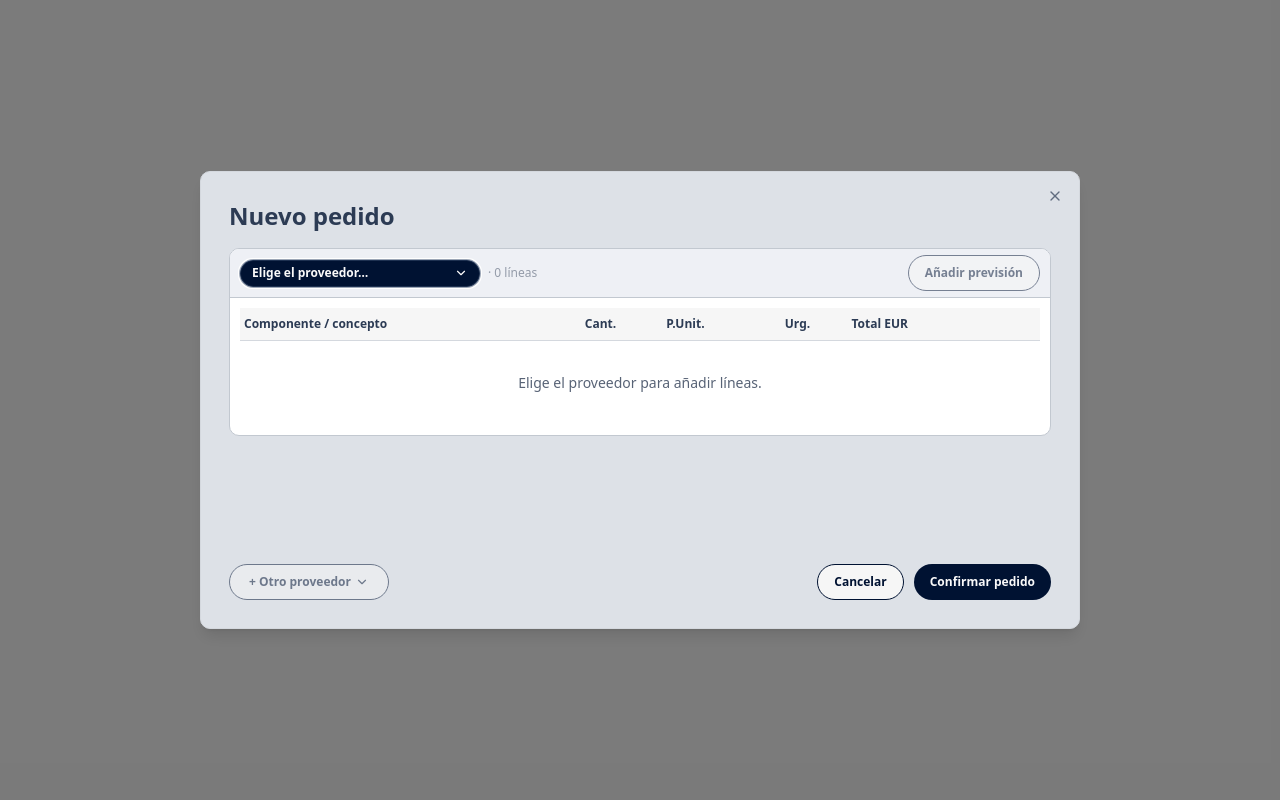
Test: «Nuevo pedido» con bloques (0.9.9) › un 409 de destino deja el formulario abierto con el mensaje y recarga los pedidos
Check: the dialog "Nuevo pedido" is shown, box [200,171,1080,629]
Click the dropdown labelled "proveedor": [360, 273] box [240,260,480,286]
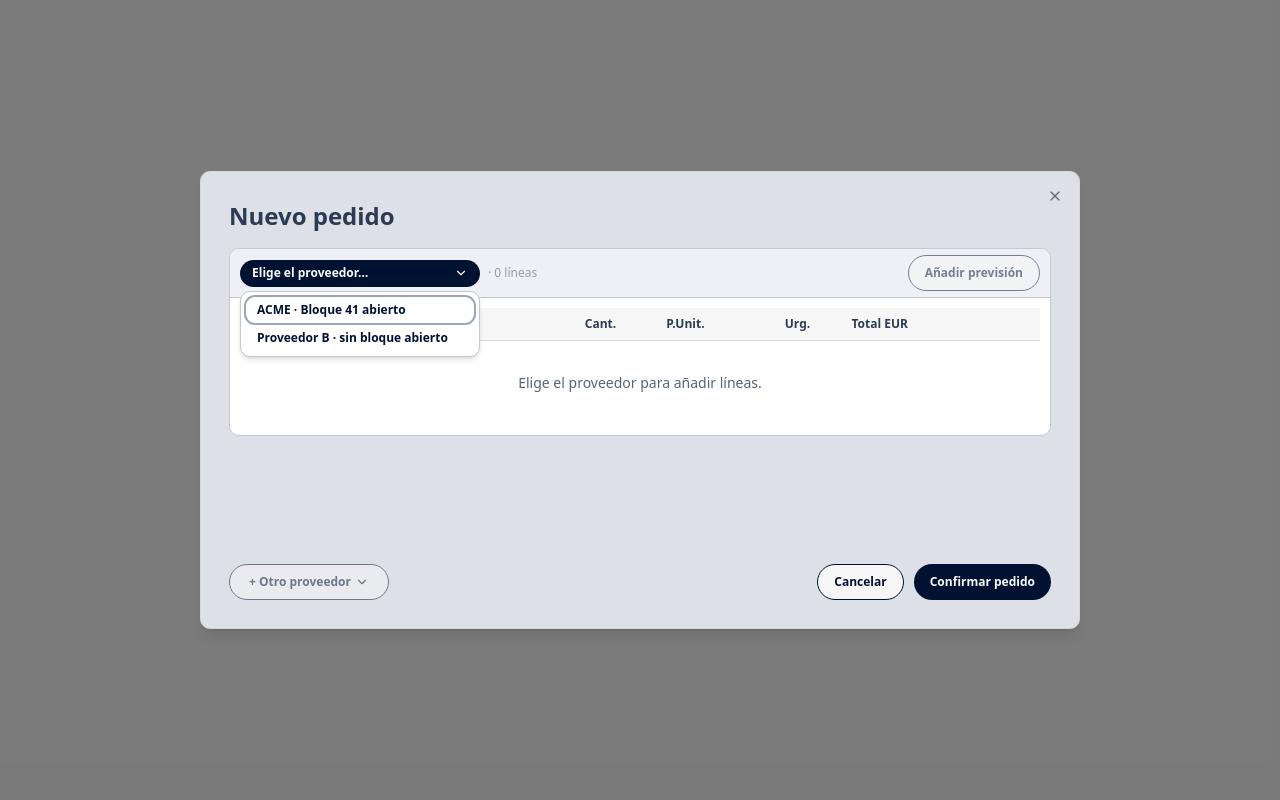
Click the button "ACME · Bloque 41 abierto": [360, 310] box [245,296,475,324]
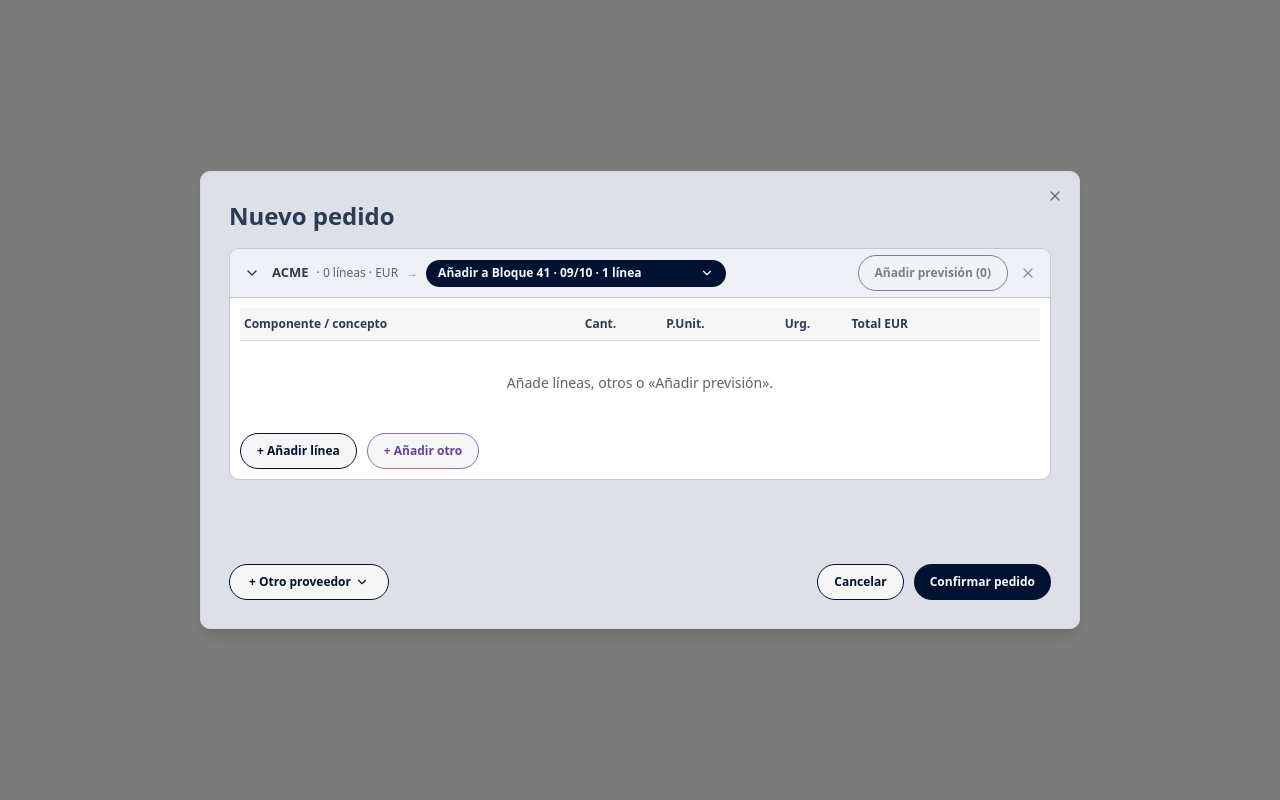
Click the button "+ Añadir línea": [298, 450] box [240,432,357,468]
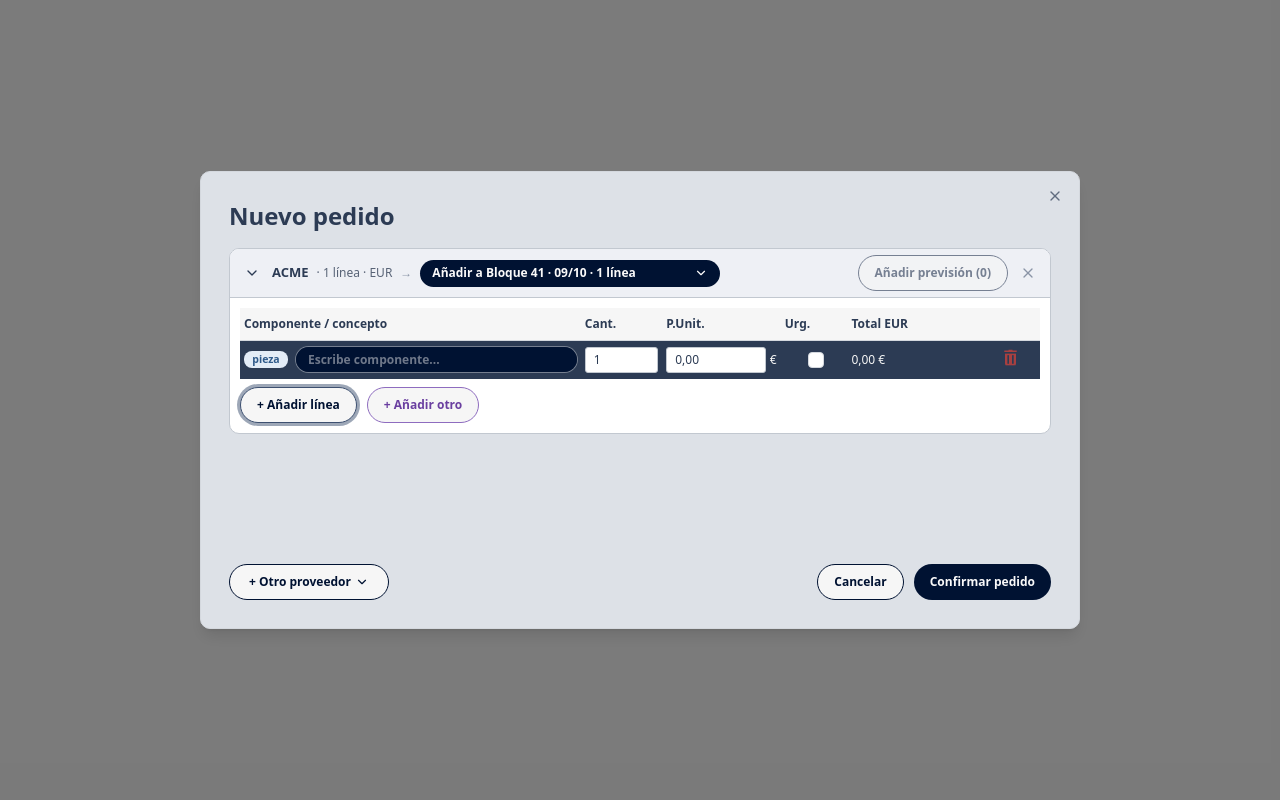
In the dropdown named "Componente línea 1": [436, 359] box [296,347,577,372], type "lcd"
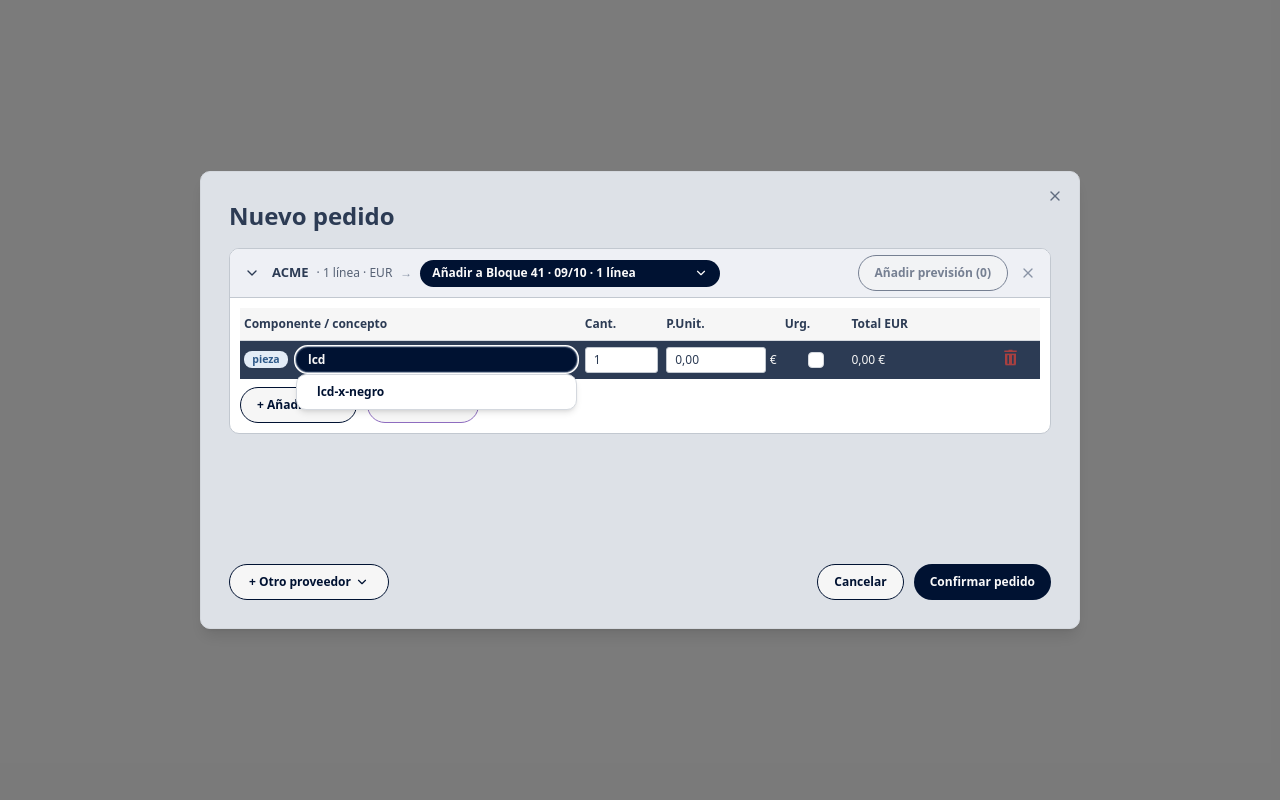
Click the option "lcd-x-negro": [351, 392] box [317,383,384,400]
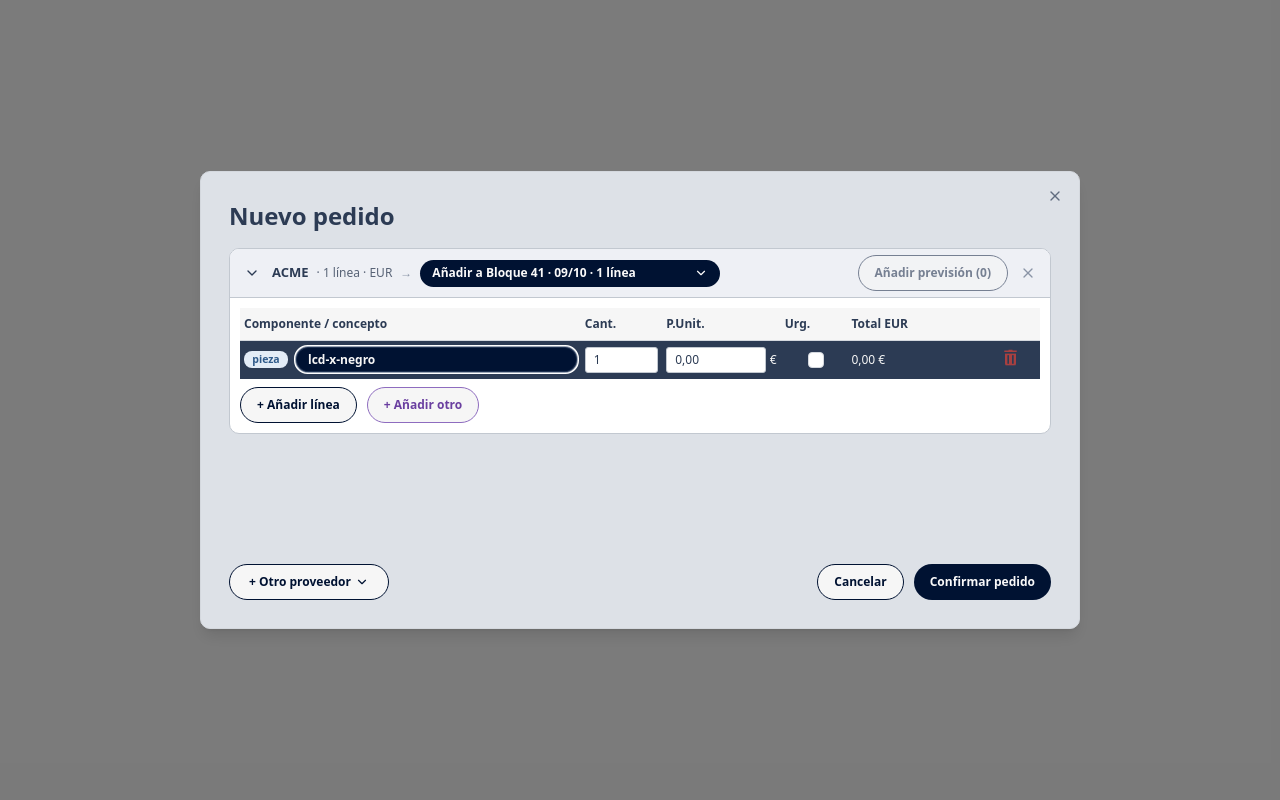
Check: the dropdown named "Bloque de ACME" is shown, box [420,260,720,286]
Click the button "Confirmar pedido": [982, 582] box [914,564,1051,600]
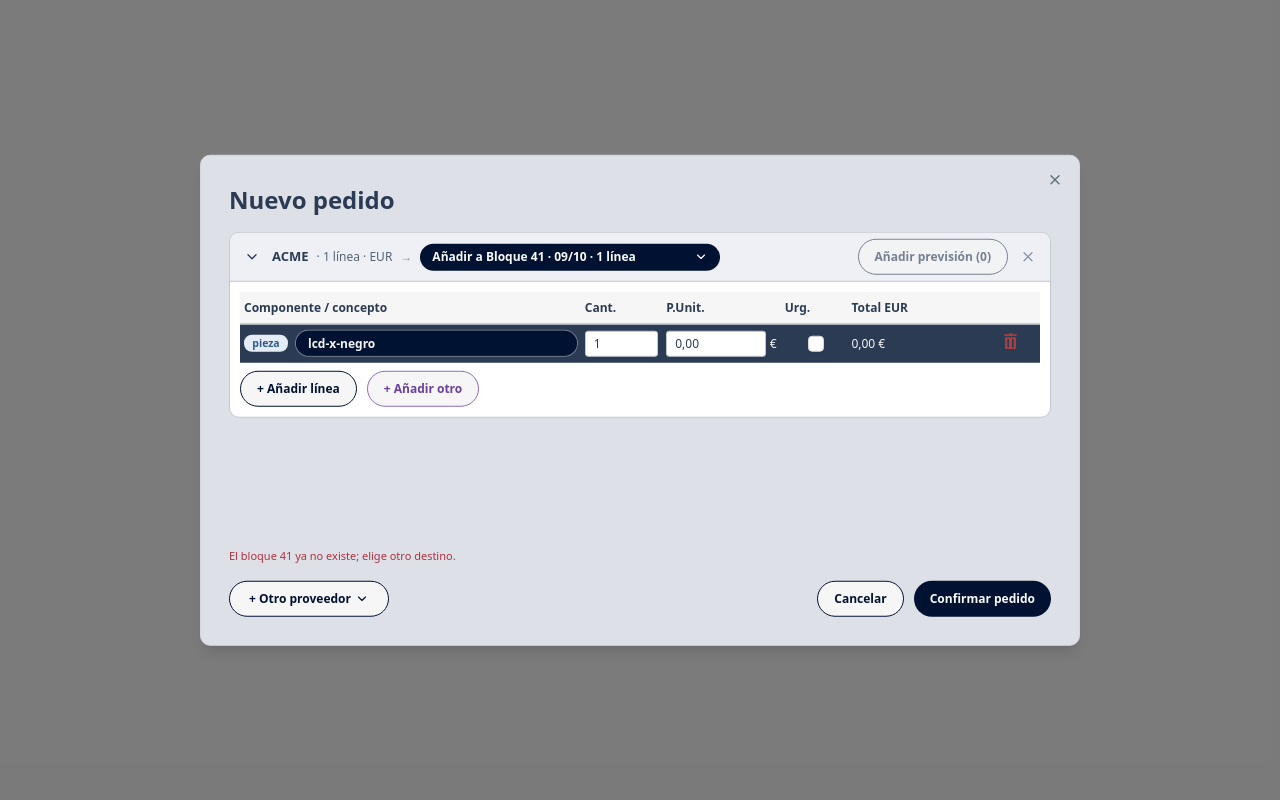
Check: the text "El bloque 41 ya no existe; elige otro destino." is shown, box [229,548,456,563]
